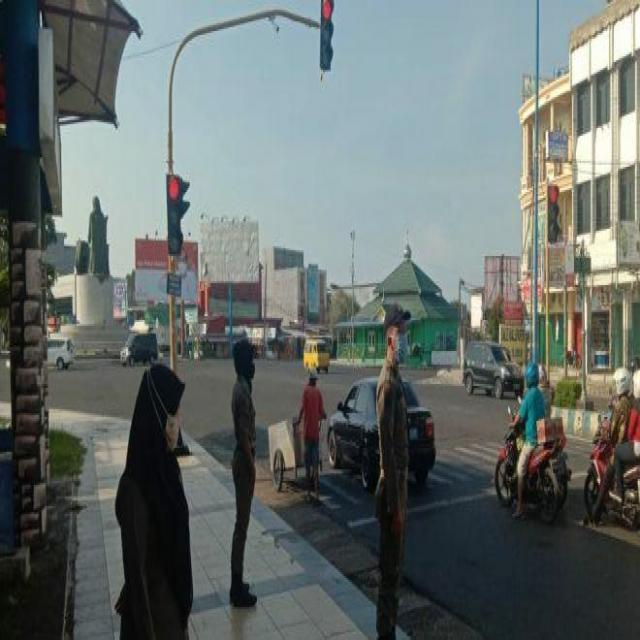red_light: (167, 173, 182, 256), (318, 2, 332, 70)
